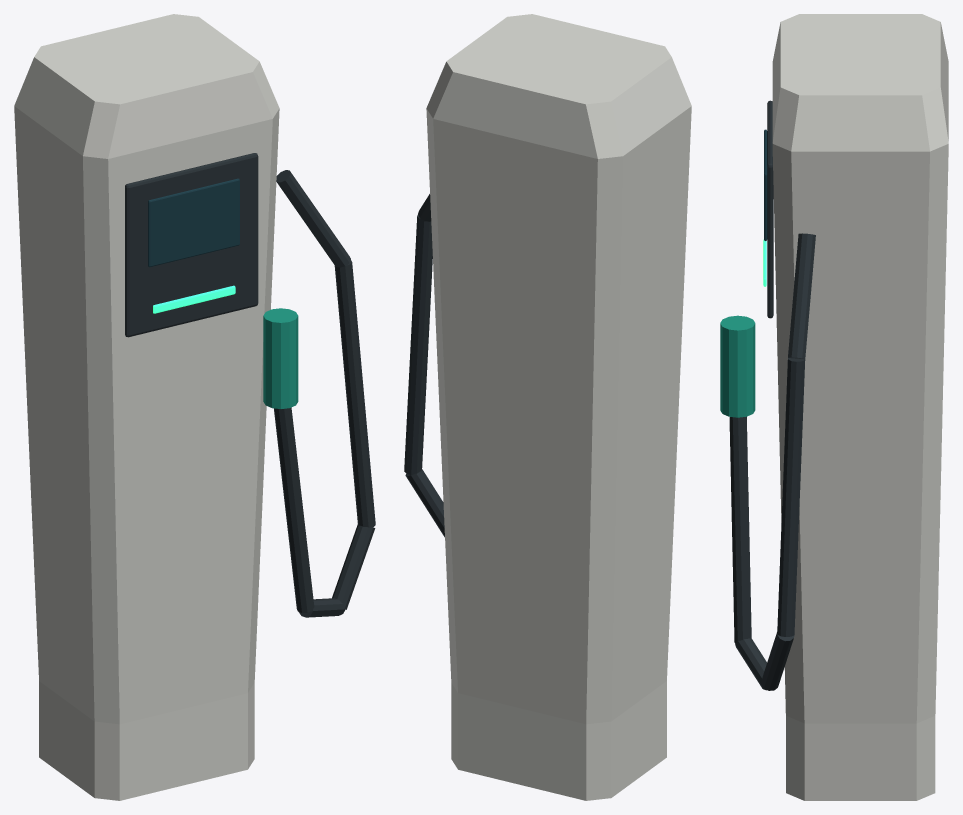
The model's file is SIMUS_Parking_EVCharger.fbx.
3 views of the same model, side by side, from view 1: azimuth 30°, elevation 25°; view 2: azimuth 150°, elevation 25°; view 3: azimuth 270°, elevation 25° (orthographic).
Parts seen in each view (by area): view 1: COL_EV_Charger_Housing, EV_Charger_Housing, EV_Control, EV_ChargeCable, EV_Screen, EV_ChargePlug, EV_Status; view 2: COL_EV_Charger_Housing, EV_Charger_Housing, EV_ChargeCable; view 3: COL_EV_Charger_Housing, EV_Charger_Housing, EV_ChargeCable, EV_ChargePlug, EV_Control, EV_Screen.
Part boxes in pixels (x1=…): COL_EV_Charger_Housing: x1=14, y1=14, x2=279, y2=800; EV_Charger_Housing: x1=15, y1=16, x2=278, y2=792; EV_Control: x1=125, y1=153, x2=258, y2=337; EV_ChargeCable: x1=274, y1=170, x2=375, y2=617; EV_Screen: x1=148, y1=178, x2=239, y2=267; EV_ChargePlug: x1=263, y1=308, x2=298, y2=408; EV_Status: x1=153, y1=285, x2=235, y2=313; COL_EV_Charger_Housing: x1=426, y1=14, x2=691, y2=800; EV_Charger_Housing: x1=428, y1=15, x2=689, y2=797; EV_ChargeCable: x1=404, y1=194, x2=444, y2=537; COL_EV_Charger_Housing: x1=772, y1=14, x2=948, y2=800; EV_Charger_Housing: x1=772, y1=15, x2=946, y2=798; EV_ChargeCable: x1=729, y1=233, x2=815, y2=690; EV_ChargePlug: x1=720, y1=315, x2=755, y2=417; EV_Control: x1=767, y1=100, x2=773, y2=318; EV_Screen: x1=764, y1=129, x2=767, y2=240.
Size of the model in its own units: 63.2 by 146 by 42.8.
